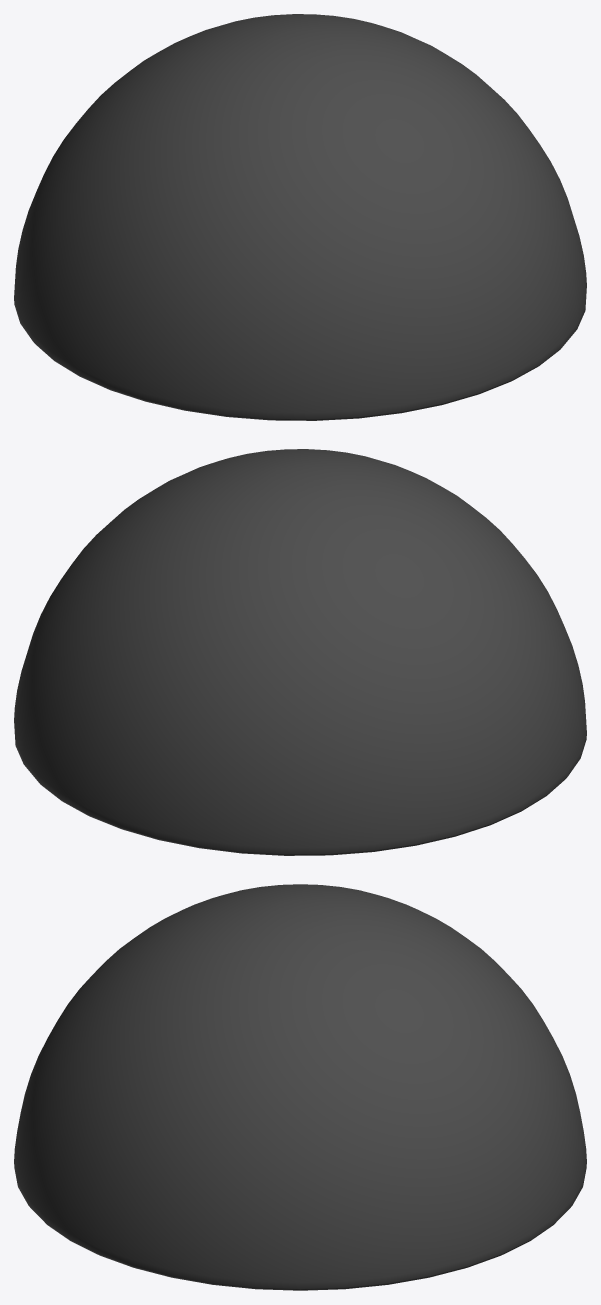
File: LoadingEnvironment.fbx
3 renders of one model, top to bottom at view 1: azimuth 30°, elevation 25°; view 2: azimuth 150°, elevation 25°; view 3: azimuth 270°, elevation 25°, orthographic.
Parts seen in each view (by area): view 1: LoadingEnvironment; view 2: LoadingEnvironment; view 3: LoadingEnvironment.
Part boxes in pixels (bbox=[...]): LoadingEnvironment: bbox=[14, 14, 586, 420]; LoadingEnvironment: bbox=[14, 449, 586, 855]; LoadingEnvironment: bbox=[14, 884, 586, 1290].
Size of the model in its own units: 3204 by 1628 by 3204.
1 material, 1 textured.
